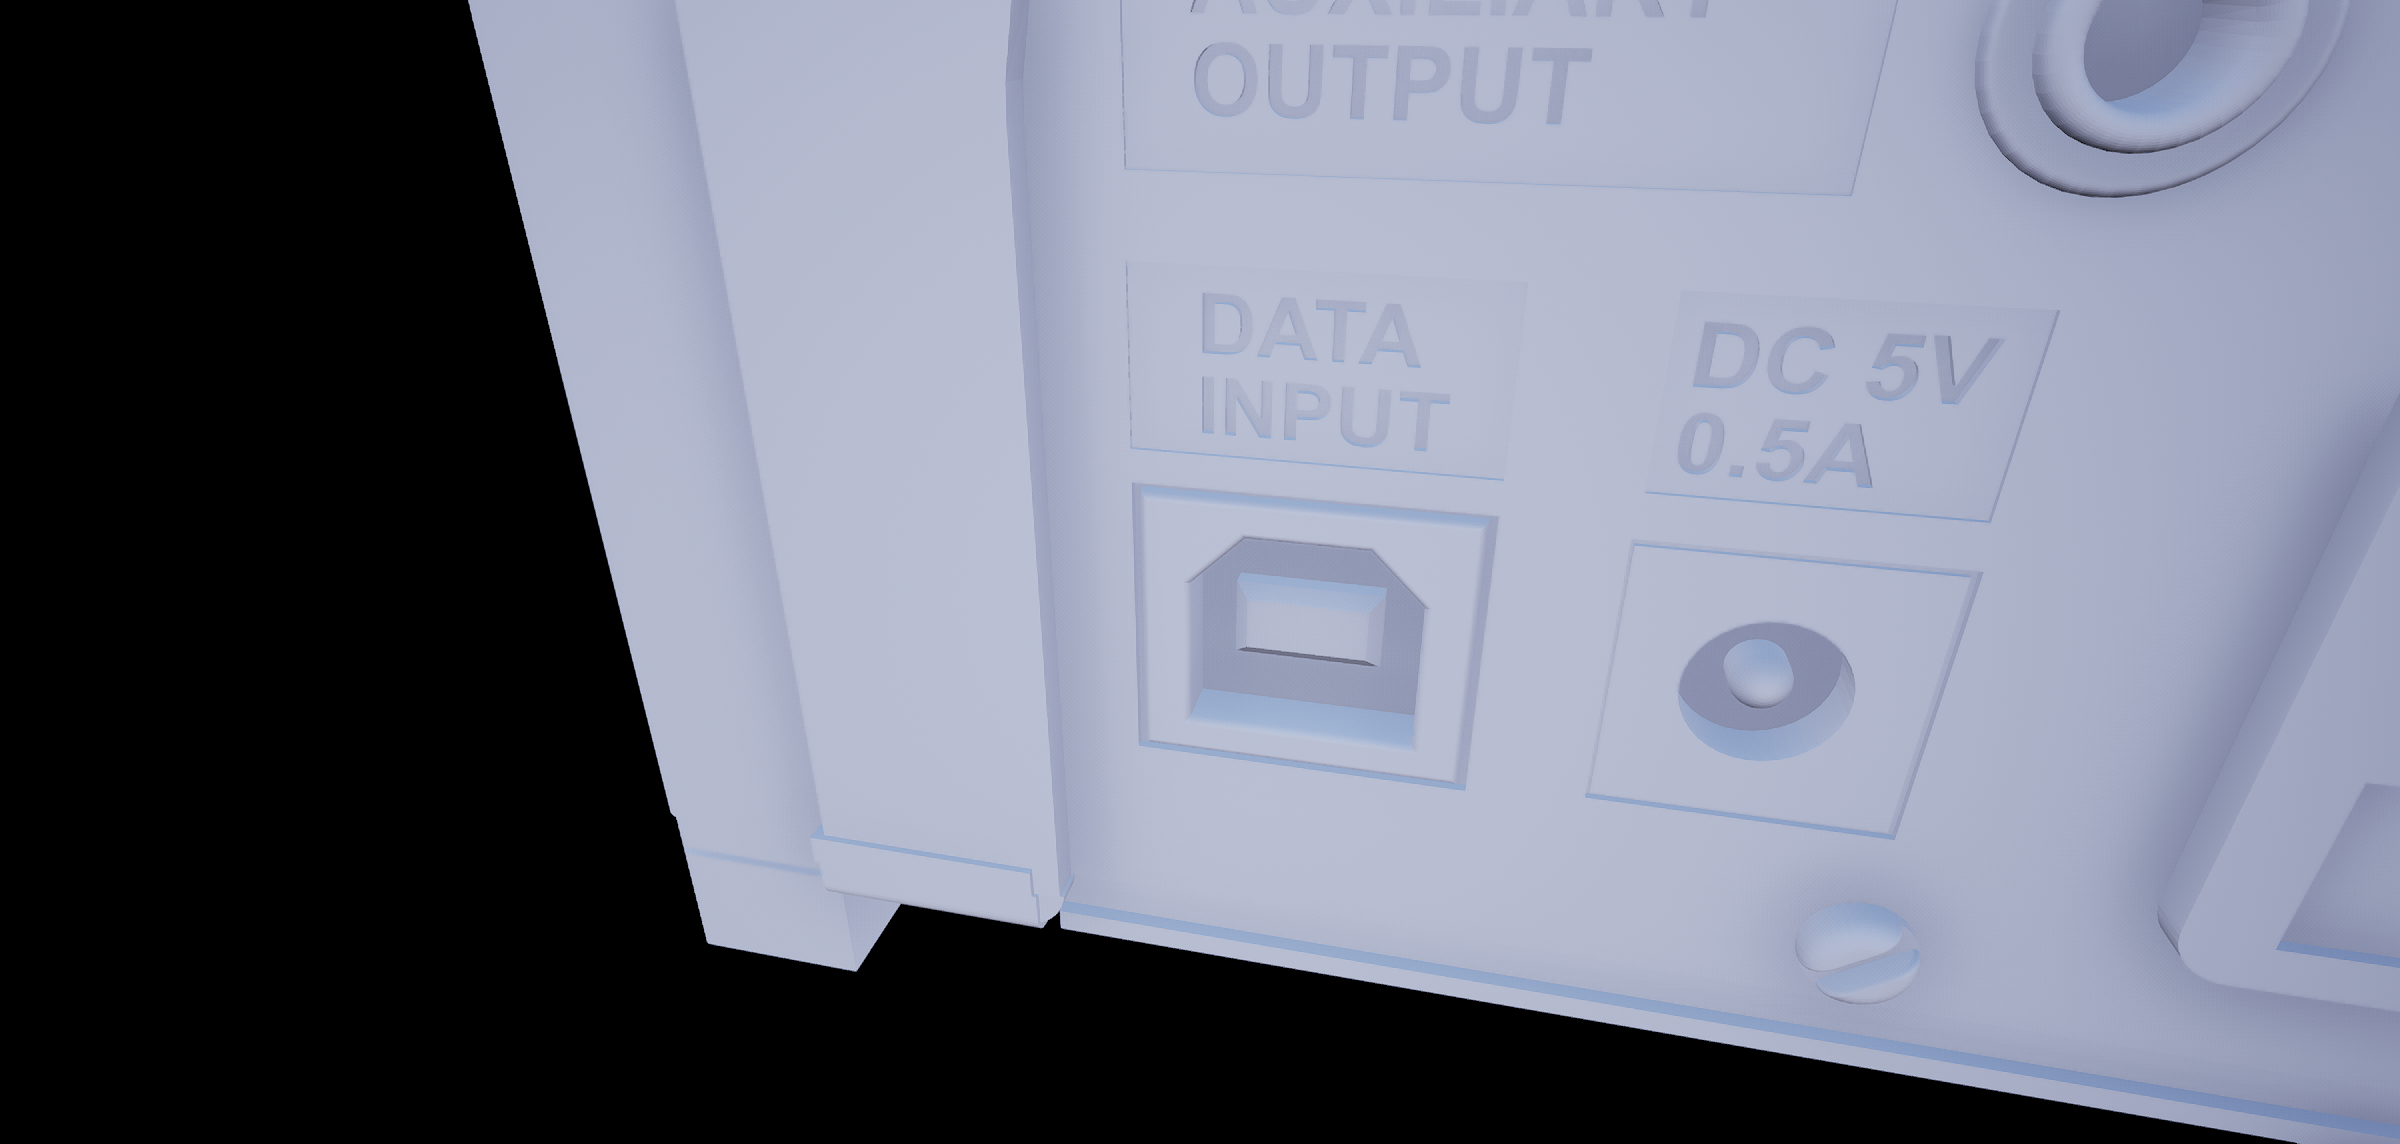aux: (1952, 2, 2366, 204)
dc: (1670, 610, 1872, 790)
usb: (1172, 521, 1436, 763)
